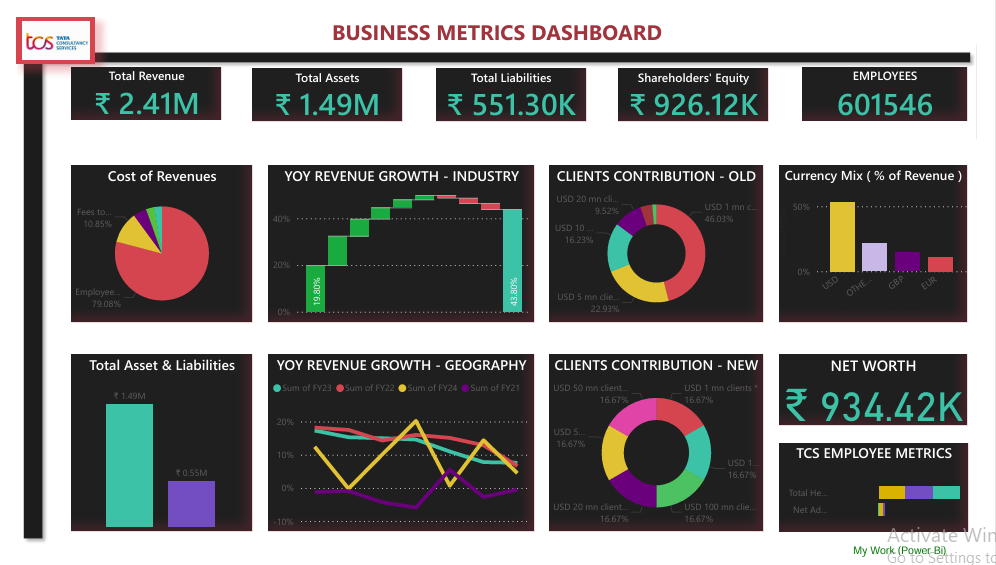

What the dashboard file says about the page in this screenshot:
{"tool":"powerbi","page":{"name":"Page 21","canvas":[1280,720],"ordinal":0},"visuals":[{"type":"shape","title":"BUSINESS METRICS DASHBOARD","box":[0,0,1280.2,67.7],"z":0},{"type":"shape","box":[0,49.3,43.5,653.6],"z":1000},{"type":"image","box":[0,0,105.1,61.9],"z":2000},{"type":"kpi","title":"Total Revenue","fields":{"TrendLine":["Revenue - USD Mn.Revenue"],"Indicator":["Sum(Revenue - USD Mn.FY24)"]},"box":[73.4,66.2,200,70],"z":3000},{"type":"kpi","title":"Total Assets","fields":{"TrendLine":["Total Assets(Non Current +Current ) - USD Mn.Total Assets"],"Indicator":["Sum(Total Assets(Non Current +Current ) - USD Mn.FY24)"]},"box":[313.9,67.7,200.2,70.6],"z":4000},{"type":"kpi","title":" Total Liabilities","fields":{"TrendLine":["Total Liabilities(Non Current + Current ) - USD Mn.Total Liabilities"],"Indicator":["Sum(Total Liabilities(Non Current + Current ) - USD Mn.FY24)"]},"box":[558.7,67.7,200.2,70.6],"z":5000},{"type":"kpi","title":"EMPLOYEES","fields":{"TrendLine":["TCS Employee Metrics total.TCS OPERATING METRICS"],"Indicator":["Sum(TCS Employee Metrics total.FY24)"]},"box":[1048.3,66.2,218.9,70.6],"z":6000},{"type":"kpi","title":" Shareholders'' Equity","fields":{"TrendLine":["Shareholders' Equity (total).Shareholders' Equity"],"Indicator":["Sum(Shareholders' Equity (total).FY24)"]},"box":[802.1,67.7,200.2,70.6],"z":7000},{"type":"pieChart","title":"Cost of Revenues","fields":{"Category":["Cost of Revenues - USD Mn.Cost of Revenues"],"Y":["Sum(Cost of Revenues - USD Mn.FY24)"]},"box":[73.4,197.3,240.5,208.8],"z":8000},{"type":"clusteredColumnChart","title":" Total Asset & Liabilities","fields":{"Category":["Asset vs Liabilities (Total).Total Asset & Liabilities"],"Y":["Sum(Asset vs Liabilities (Total).FY24)"]},"box":[73.4,449.3,240.5,236.2],"z":9000},{"type":"lineChart","title":"YOY REVENUE GROWTH - GEOGRAPHY","fields":{"Category":["YoY CC Revenue Growth by Geography.YoY CC Revenue Growth by Geography"],"Y":["Sum(YoY CC Revenue Growth by Geography.FY23)","Sum(YoY CC Revenue Growth by Geography.FY22)","Sum(YoY CC Revenue Growth by Geography.FY24)","Sum(YoY CC Revenue Growth by Geography.FY21)"]},"box":[335.5,449.3,354.2,236.2],"z":10000},{"type":"waterfallChart","title":"YOY REVENUE GROWTH - INDUSTRY","fields":{"Category":["YoY CC Revenue Growth by Industry Domain - New Classification.YoY CC Revenue Growth by Industry Domain - New Classificat"],"Y":["Sum(YoY CC Revenue Growth by Industry Domain - New Classification.FY24)"]},"box":[335.5,197.3,354.2,208.8],"z":11000},{"type":"donutChart","title":"CLIENTS CONTRIBUTION - OLD","fields":{"Category":["Clients Contribution - Old Classification.Clients Contribution - Old Classification"],"Y":["Sum(Clients Contribution - Old Classification.FY13)"]},"box":[709.9,197.3,285.1,208.8],"z":12000},{"type":"donutChart","title":"CLIENTS CONTRIBUTION - NEW","fields":{"Category":["Clients Contribution - New Classification.Clients Contribution - New Classification"],"Y":["CountNonNull(Clients Contribution - New Classification.FY24)"]},"box":[709.9,449.3,285.1,236.2],"z":13000},{"type":"columnChart","title":" Currency Mix ( % of Revenue )","fields":{"Category":["Currency Mix ( % of Revenue ).Currency Mix ( % of Revenue )"],"Y":["Sum(Currency Mix ( % of Revenue ).FY24)"]},"box":[1016.6,197.3,250.6,208.8],"z":14000},{"type":"barChart","title":"TCS EMPLOYEE METRICS","fields":{"Category":["Operating Metrics.TCS OPERATING METRICS"],"Y":["Sum(Operating Metrics.FY24)","Sum(Operating Metrics.FY23)","Sum(Operating Metrics.FY22)"]},"box":[1016.6,567.4,252,118.1],"z":15000},{"type":"kpi","title":"NET WORTH","fields":{"TrendLine":["IFRS-PnL,BS-INR.TCS Consolidated Income Statement as per IFRS - INR Mn"],"Indicator":["Sum(IFRS-PnL,BS-INR.FY24)"]},"box":[1016.6,449.3,250.6,93.6],"z":16000}]}

Visuals, with their boxes in screenshot pixels (x1, y1, x2, y2):
"BUSINESS METRICS DASHBOARD" shape: select_region(21, 18, 968, 68)
shape: select_region(21, 55, 53, 538)
image: select_region(21, 18, 99, 64)
"Total Revenue" kpi: select_region(75, 67, 223, 119)
"Total Assets" kpi: select_region(253, 68, 401, 121)
" Total Liabilities" kpi: select_region(434, 68, 582, 121)
"EMPLOYEES" kpi: select_region(797, 67, 959, 119)
" Shareholders'' Equity" kpi: select_region(614, 68, 763, 121)
"Cost of Revenues" pieChart: select_region(75, 164, 253, 319)
" Total Asset & Liabilities" clusteredColumnChart: select_region(75, 351, 253, 526)
"YOY REVENUE GROWTH - GEOGRAPHY" lineChart: select_region(269, 351, 531, 526)
"YOY REVENUE GROWTH - INDUSTRY" waterfallChart: select_region(269, 164, 531, 319)
"CLIENTS CONTRIBUTION - OLD" donutChart: select_region(546, 164, 757, 319)
"CLIENTS CONTRIBUTION - NEW" donutChart: select_region(546, 351, 757, 526)
" Currency Mix ( % of Revenue )" columnChart: select_region(773, 164, 959, 319)
"TCS EMPLOYEE METRICS" barChart: select_region(773, 438, 960, 526)
"NET WORTH" kpi: select_region(773, 351, 959, 420)
